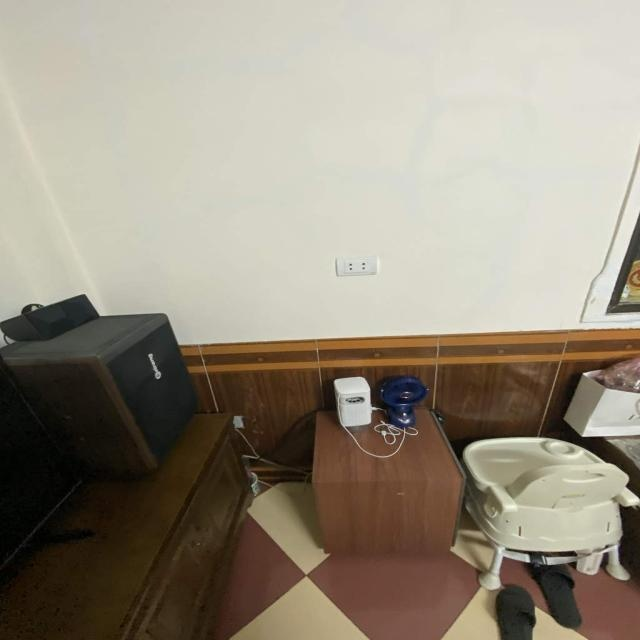outlet: (335, 256, 377, 276)
